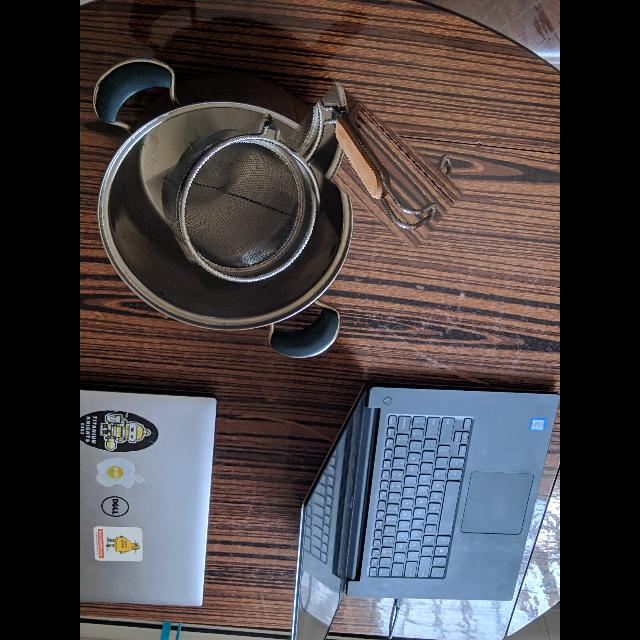Handle: (306, 96, 447, 238)
Strainer: (183, 137, 323, 286)
